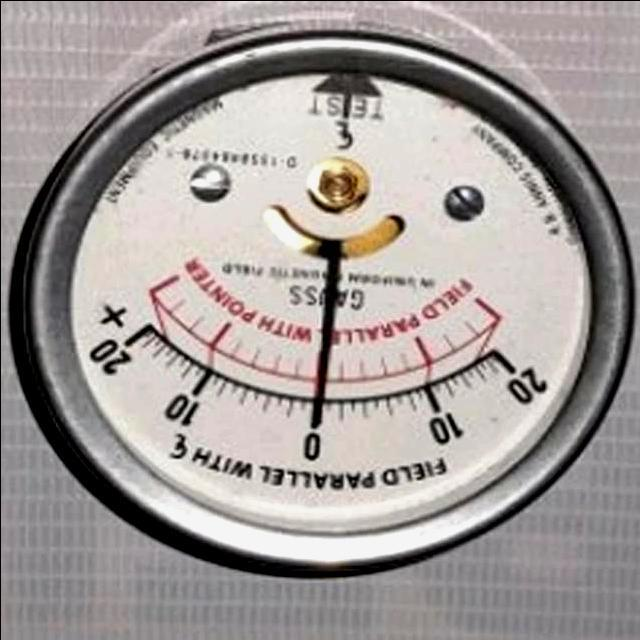Needle_Tip: (266, 371, 360, 456)
Needle_base: (290, 131, 381, 237)
max_value: (76, 301, 144, 393)
min_value: (479, 324, 561, 429)
